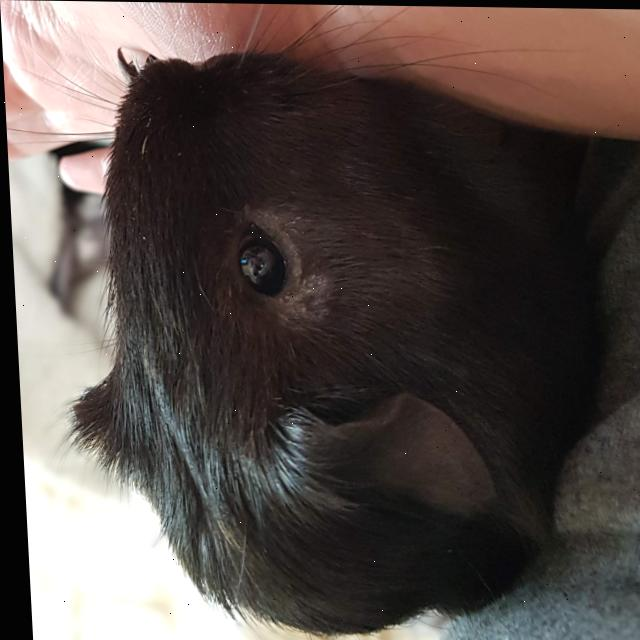guinea pig: (45, 42, 619, 638)
